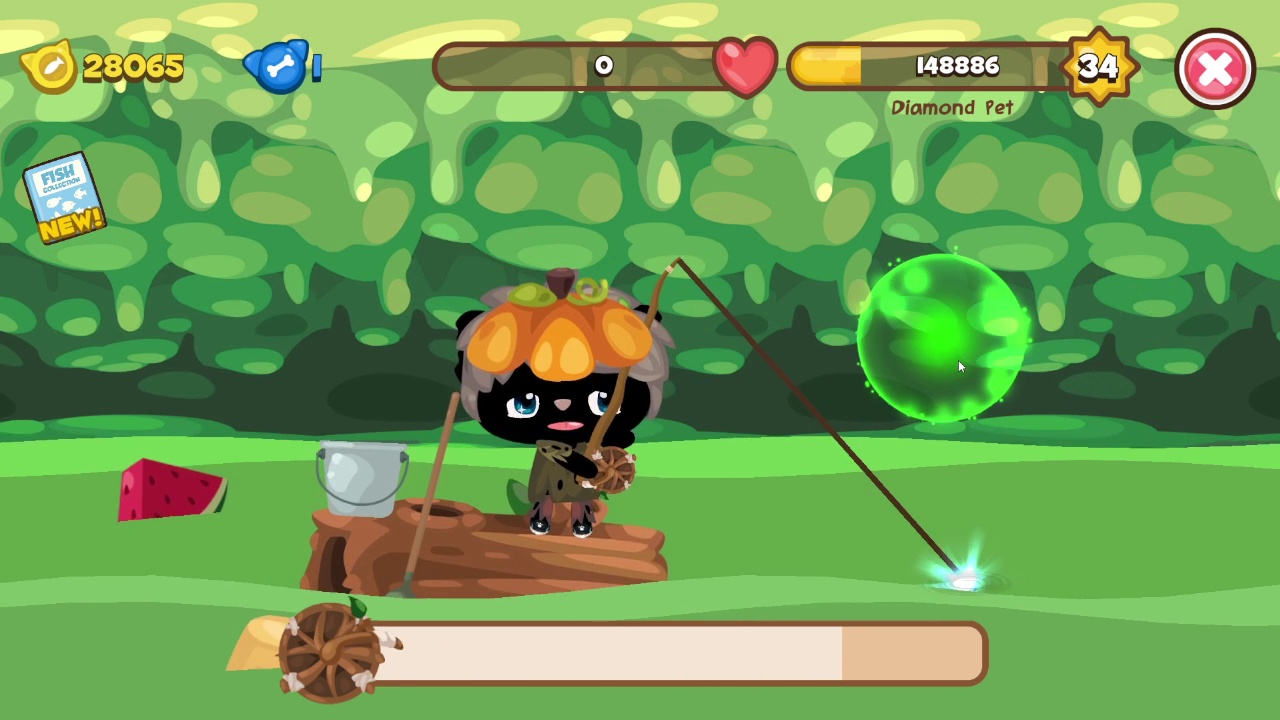point: (855, 252, 1030, 422)
